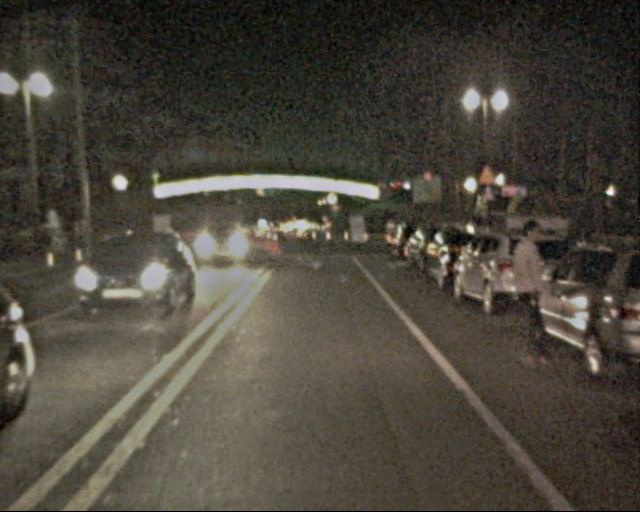person: (498, 217, 561, 365)
